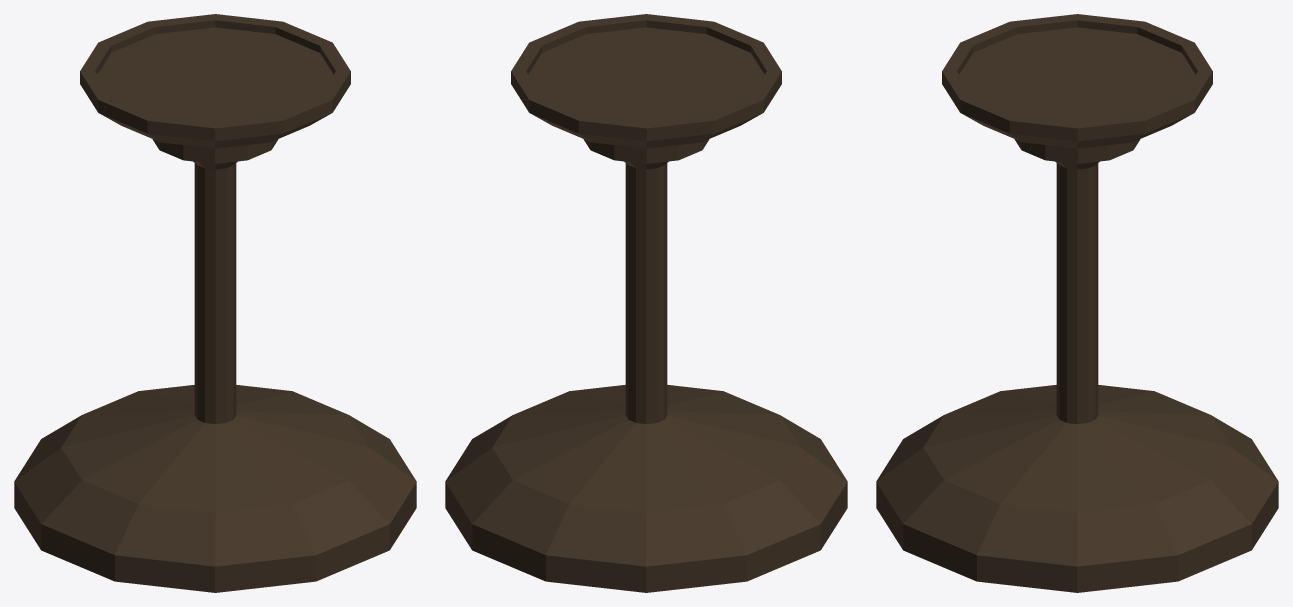
Rendered from LavaFlameHolder.fbx.
3 views of the same model, side by side, from view 1: azimuth 30°, elevation 25°; view 2: azimuth 150°, elevation 25°; view 3: azimuth 270°, elevation 25° (orthographic).
Parts seen in each view (by area): view 1: LavaFlameHolder; view 2: LavaFlameHolder; view 3: LavaFlameHolder.
Boxes of the visible parts, x1,y1,x2,y2 form: LavaFlameHolder: [14, 14, 416, 592]; LavaFlameHolder: [445, 14, 847, 592]; LavaFlameHolder: [876, 14, 1278, 592].
Bounding box in the file's own units: 0.5993 × 0.5993 × 0.7173.
